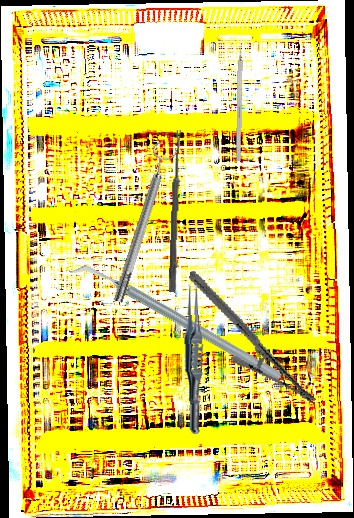Chopper: (68, 204, 284, 441)
Fixation Ring: (104, 140, 180, 306)
Hook Surgical: (235, 37, 244, 162)
Needle Holder: (163, 270, 342, 406)
Surgical Spoon: (168, 129, 183, 293)
Tissue Forceps: (181, 281, 207, 435)
